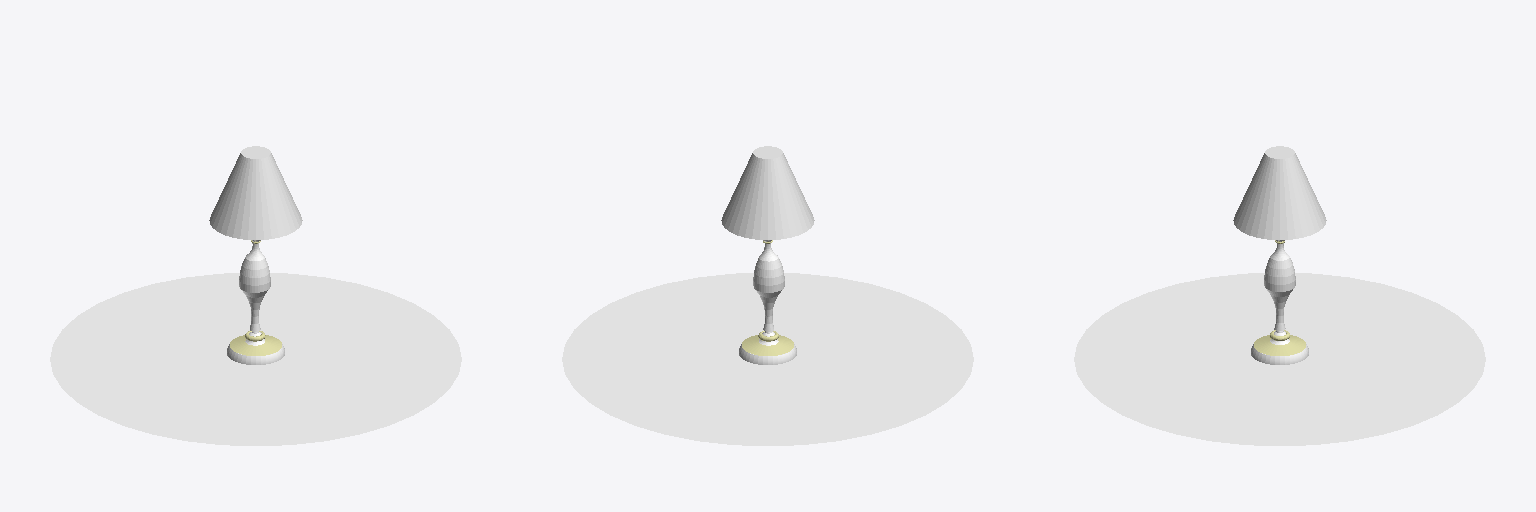
Rendered from lamp.obj.
3 views of the same model, side by side, from view 1: azimuth 30°, elevation 25°; view 2: azimuth 150°, elevation 25°; view 3: azimuth 270°, elevation 25° (orthographic).
Parts seen in each view (by area): view 1: floor, Cone, Cylinder, base_cover, base; view 2: floor, Cone, Cylinder, base_cover, base; view 3: floor, Cone, Cylinder, base_cover, base.
Boxes of the visible parts, <box> form: floor: <box>50,273,461,445</box>; Cone: <box>209,146,302,239</box>; Cylinder: <box>239,258,270,331</box>; base_cover: <box>230,335,281,355</box>; base: <box>227,344,284,364</box>; floor: <box>562,273,973,445</box>; Cone: <box>721,146,814,239</box>; Cylinder: <box>753,258,784,331</box>; base_cover: <box>742,335,793,355</box>; base: <box>739,344,796,364</box>; floor: <box>1074,273,1485,445</box>; Cone: <box>1233,146,1326,239</box>; Cylinder: <box>1264,258,1295,330</box>; base_cover: <box>1254,335,1305,355</box>; base: <box>1251,344,1308,364</box>.
Bounding box in the file's own units: 1097 × 608 × 1097.